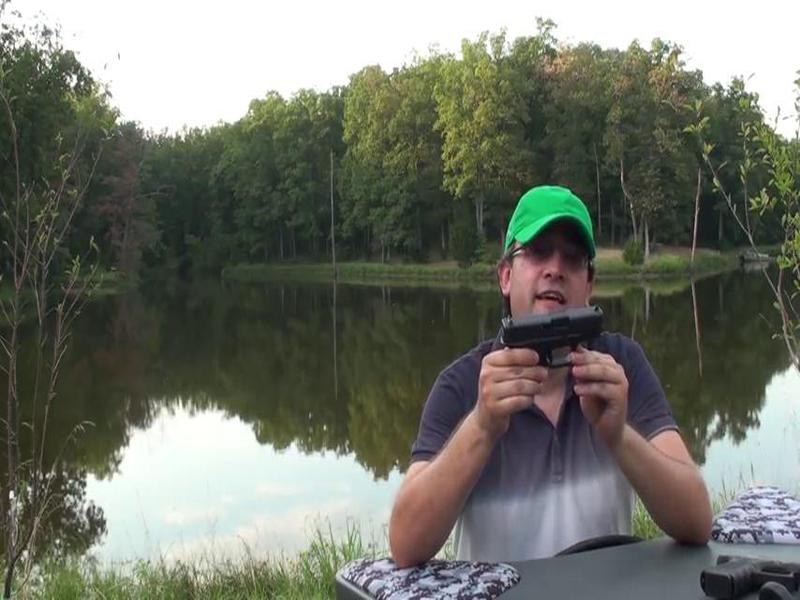Pistola: (450, 284, 618, 389)
